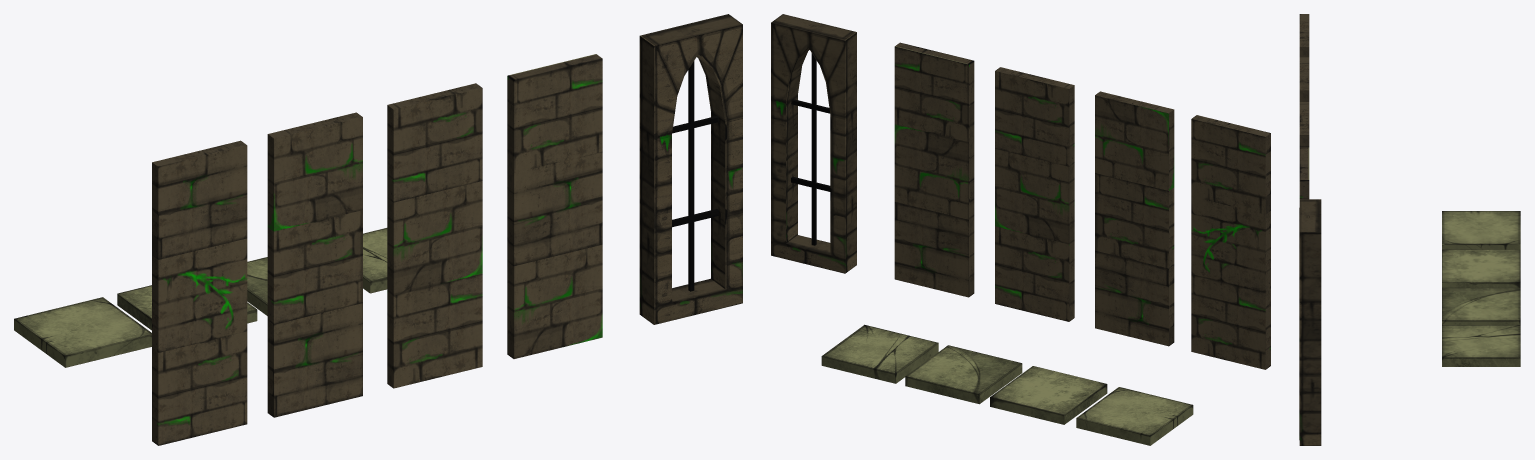
File: lowwindow.FBX
3 renders of one model, left to right at view 1: azimuth 30°, elevation 25°; view 2: azimuth 150°, elevation 25°; view 3: azimuth 270°, elevation 25°, orthographic. The views are drawn at different scales.
Visible parts, largest first — view 1: Box005, Box007, Box006, Box008, Box009, Box002, Box001, Box004, Box003; view 2: Box008, Box006, Box005, Box007, Box009, Box003, Box002, Box004, Box001; view 3: Box009, Box001, Box002, Box004, Box003, Box008, Box006, Box007, Box005.
Boxes of the visible parts, x1,y1,x2,y2 form: Box005: (152, 140, 247, 445); Box007: (267, 112, 362, 417); Box006: (387, 83, 482, 388); Box008: (507, 54, 602, 358); Box009: (639, 14, 742, 324); Box002: (14, 297, 151, 367); Box001: (363, 228, 387, 293); Box004: (117, 285, 257, 330); Box003: (247, 257, 267, 315); Box008: (894, 42, 974, 297); Box006: (995, 67, 1074, 321); Box005: (1191, 115, 1270, 369); Box007: (1095, 91, 1174, 346); Box009: (771, 14, 856, 273); Box003: (905, 345, 1022, 404); Box002: (1076, 387, 1193, 445); Box004: (990, 366, 1107, 424); Box001: (821, 324, 938, 383); Box009: (1299, 199, 1321, 445); Box001: (1442, 325, 1520, 366); Box002: (1442, 211, 1520, 249); Box004: (1442, 249, 1520, 287); Box003: (1442, 287, 1520, 324); Box008: (1299, 146, 1309, 199); Box006: (1299, 102, 1309, 146); Box007: (1299, 57, 1309, 101); Box005: (1299, 14, 1309, 57).
Bounding box in the file's own units: 263 × 120 × 113.
